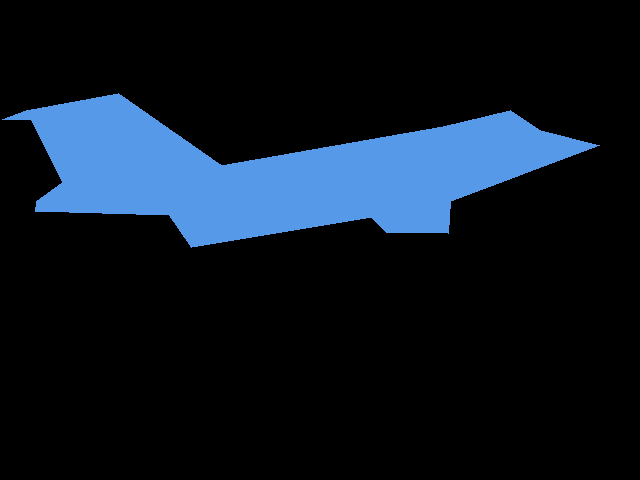Airplane: (2, 93, 600, 247)
